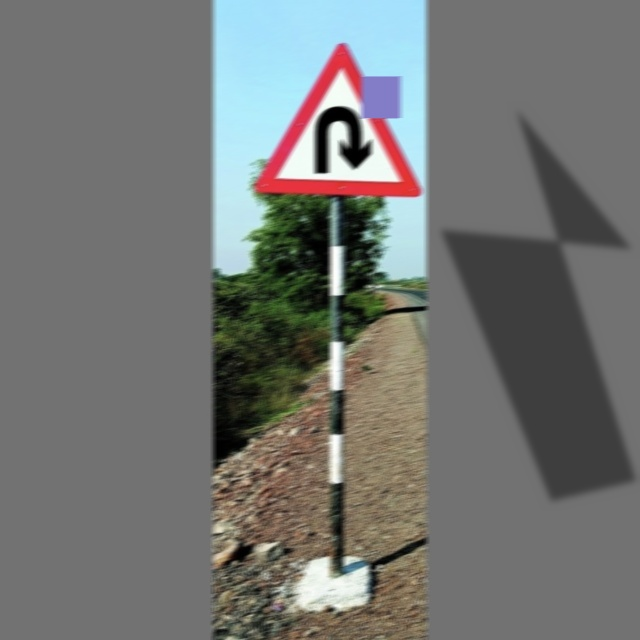Right_Hair_Pin_Bend: (266, 41, 417, 199)
